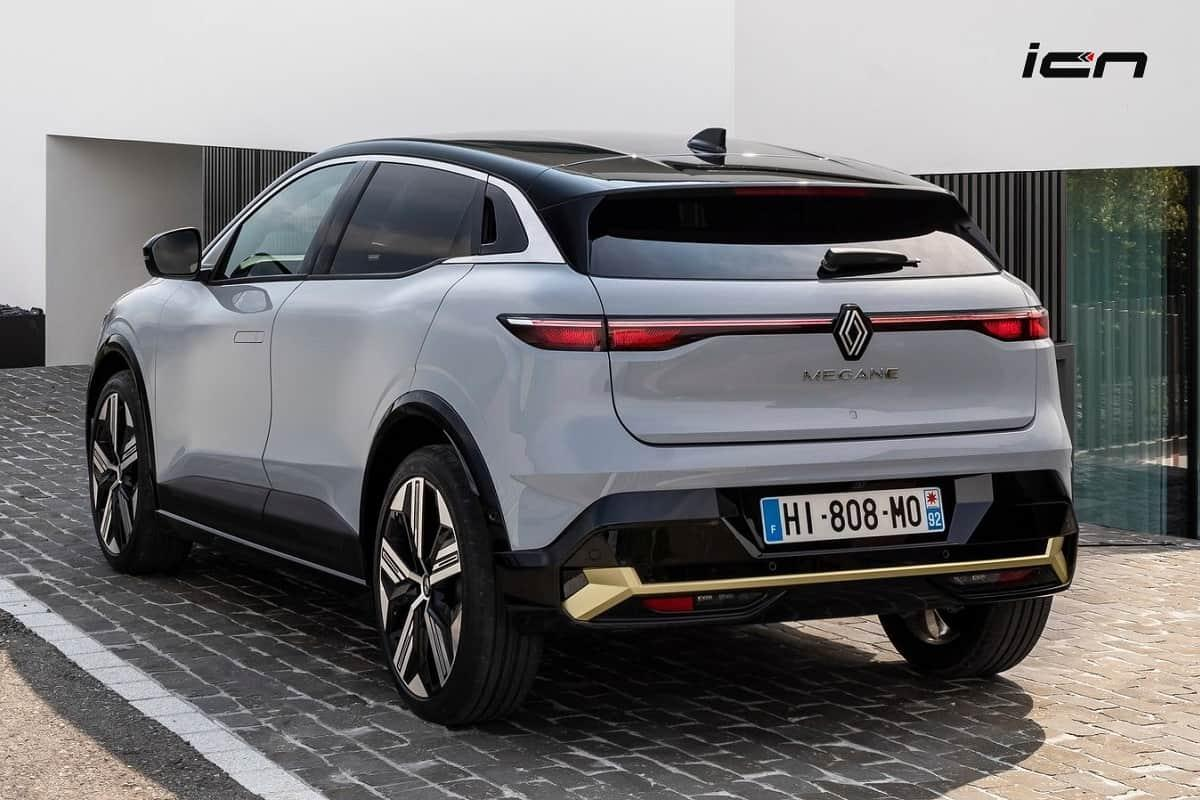Renault: (822, 299, 892, 371)
